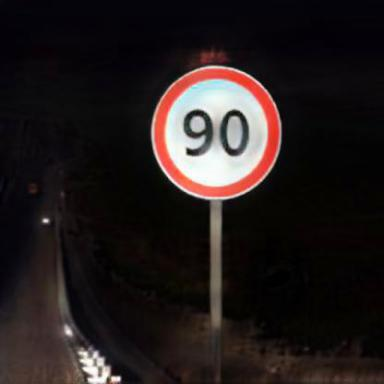Speed_limit_90: (152, 69, 281, 196)
